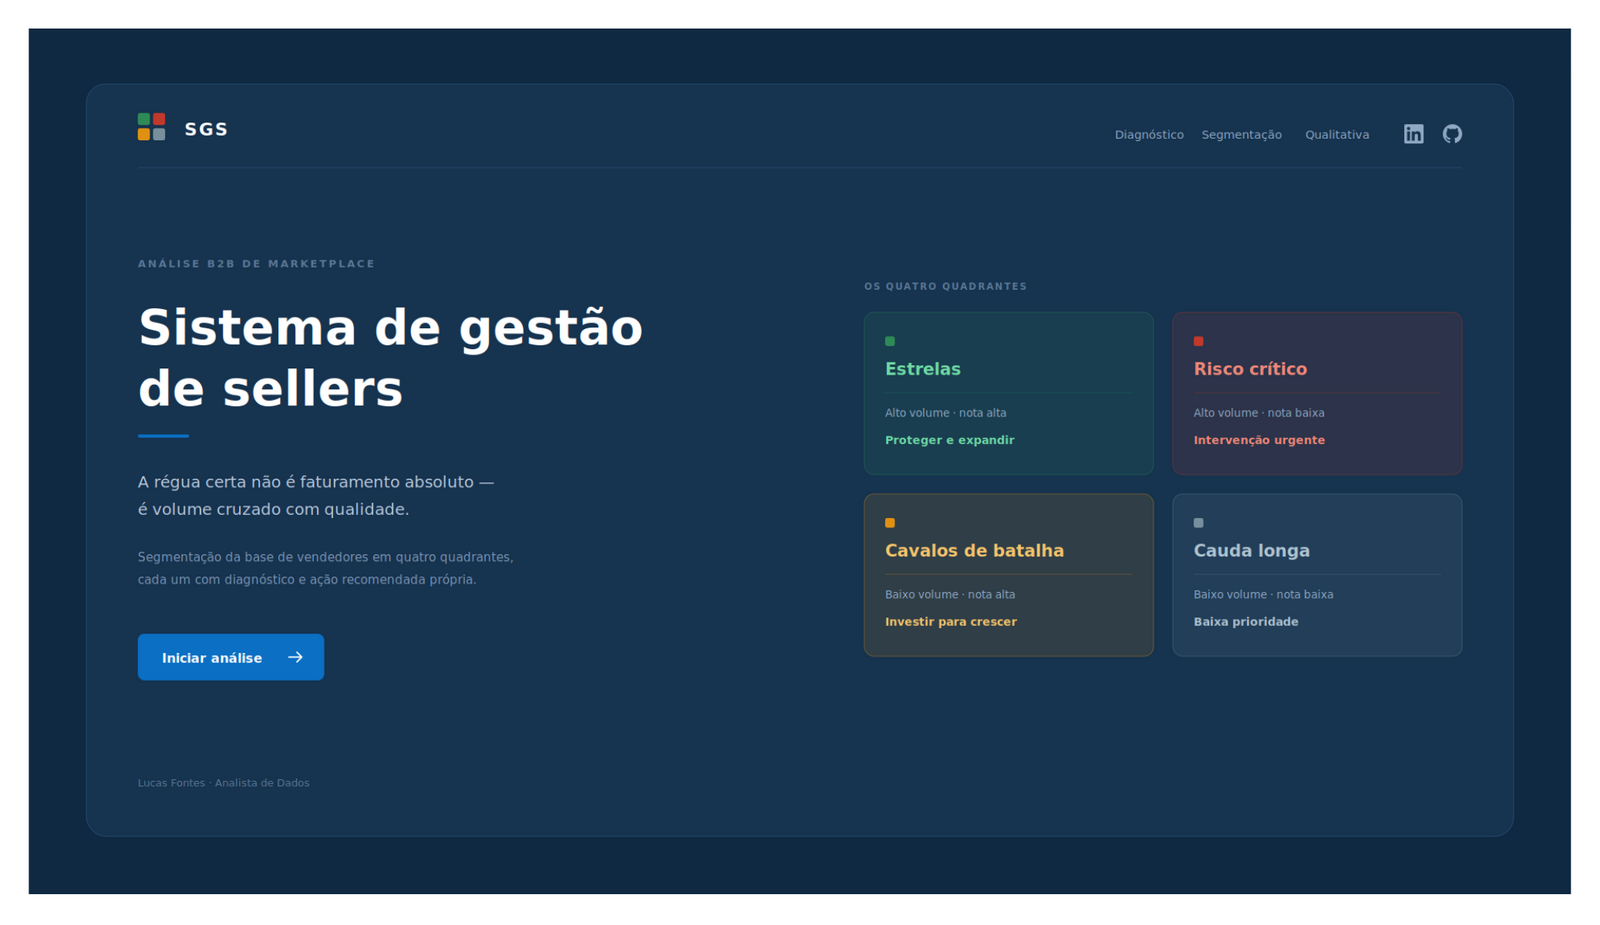

Layout of this report page (visuals, bound fields, positions):
{"tool":"powerbi","page":{"name":"Home","canvas":[1280,720],"ordinal":0},"visuals":[{"type":"actionButton","box":[89.4,500.6,158.3,42.8],"z":0},{"type":"actionButton","box":[897.7,77.7,64.6,23.8],"z":1},{"type":"actionButton","box":[973.1,77.7,70,23.8],"z":2},{"type":"actionButton","box":[1056.2,77.7,60,23.8],"z":3},{"type":"actionButton","box":[1136.9,72.3,24.6,29.2],"z":4},{"type":"actionButton","box":[1170,72.3,24.6,29.2],"z":5}]}

Visuals, with their boxes in screenshot pixels (x1, y1, x2, y2), scaled from the page's 1280x720 canvas onto the 1600x925 screenshot:
actionButton: <region>112, 643, 310, 698</region>
actionButton: <region>1122, 100, 1203, 130</region>
actionButton: <region>1216, 100, 1304, 130</region>
actionButton: <region>1320, 100, 1395, 130</region>
actionButton: <region>1421, 93, 1452, 130</region>
actionButton: <region>1462, 93, 1493, 130</region>
